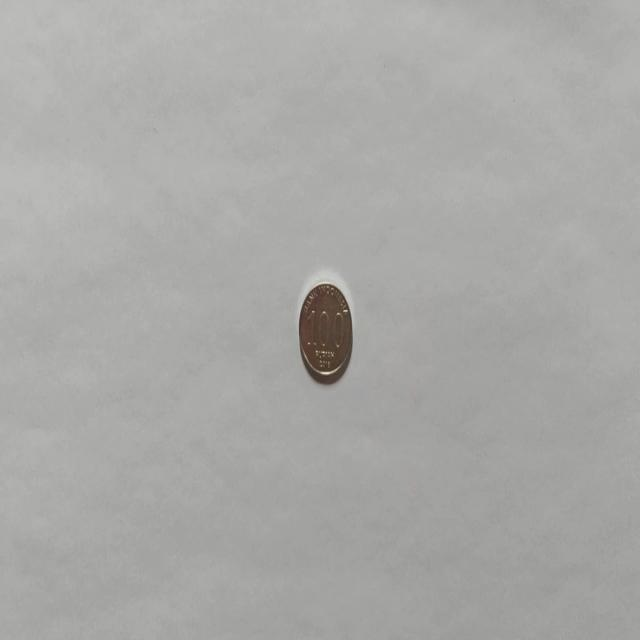seratus rupiah: (297, 279, 353, 384)
